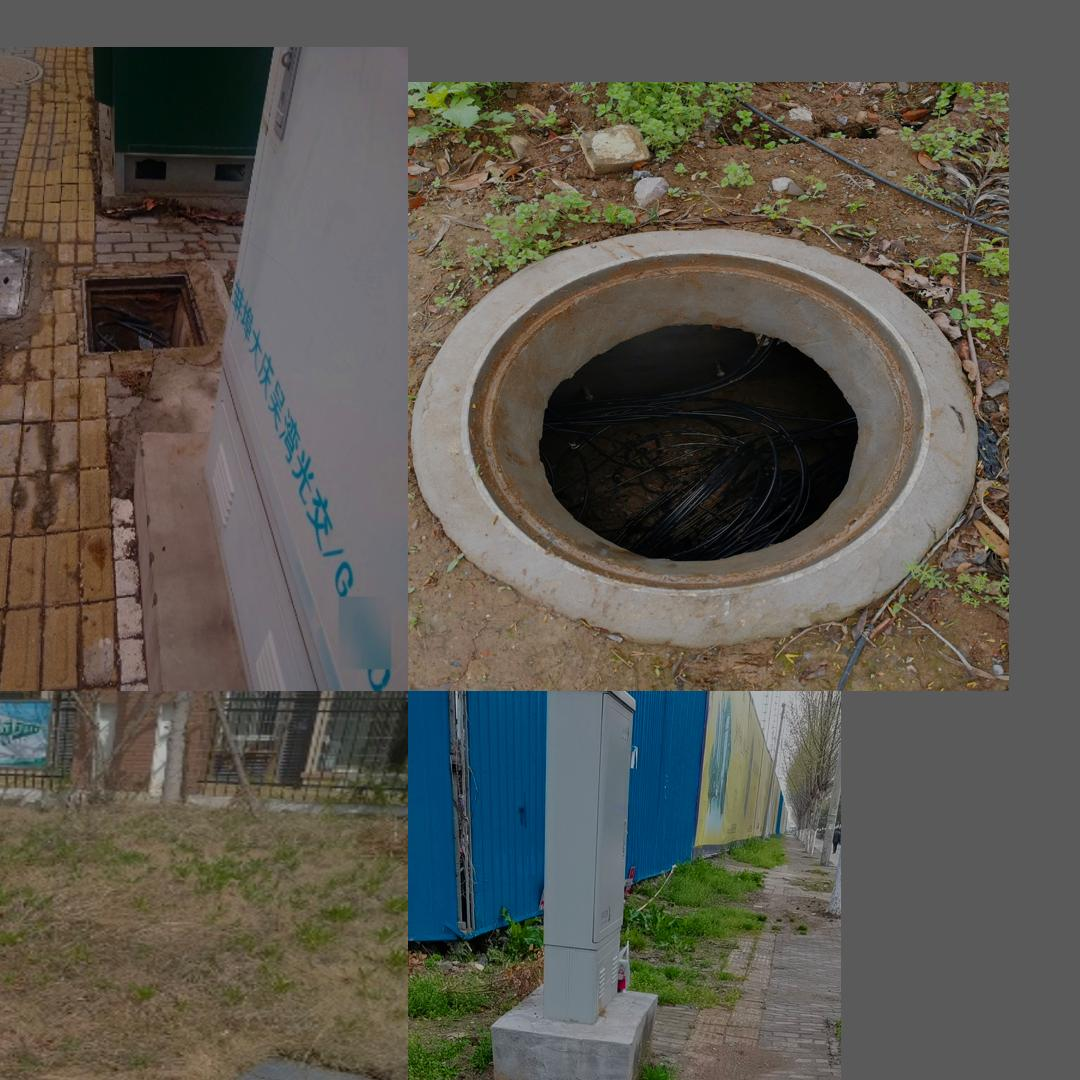good: (0, 244, 28, 324)
lose: (424, 226, 983, 650), (77, 271, 209, 353)
